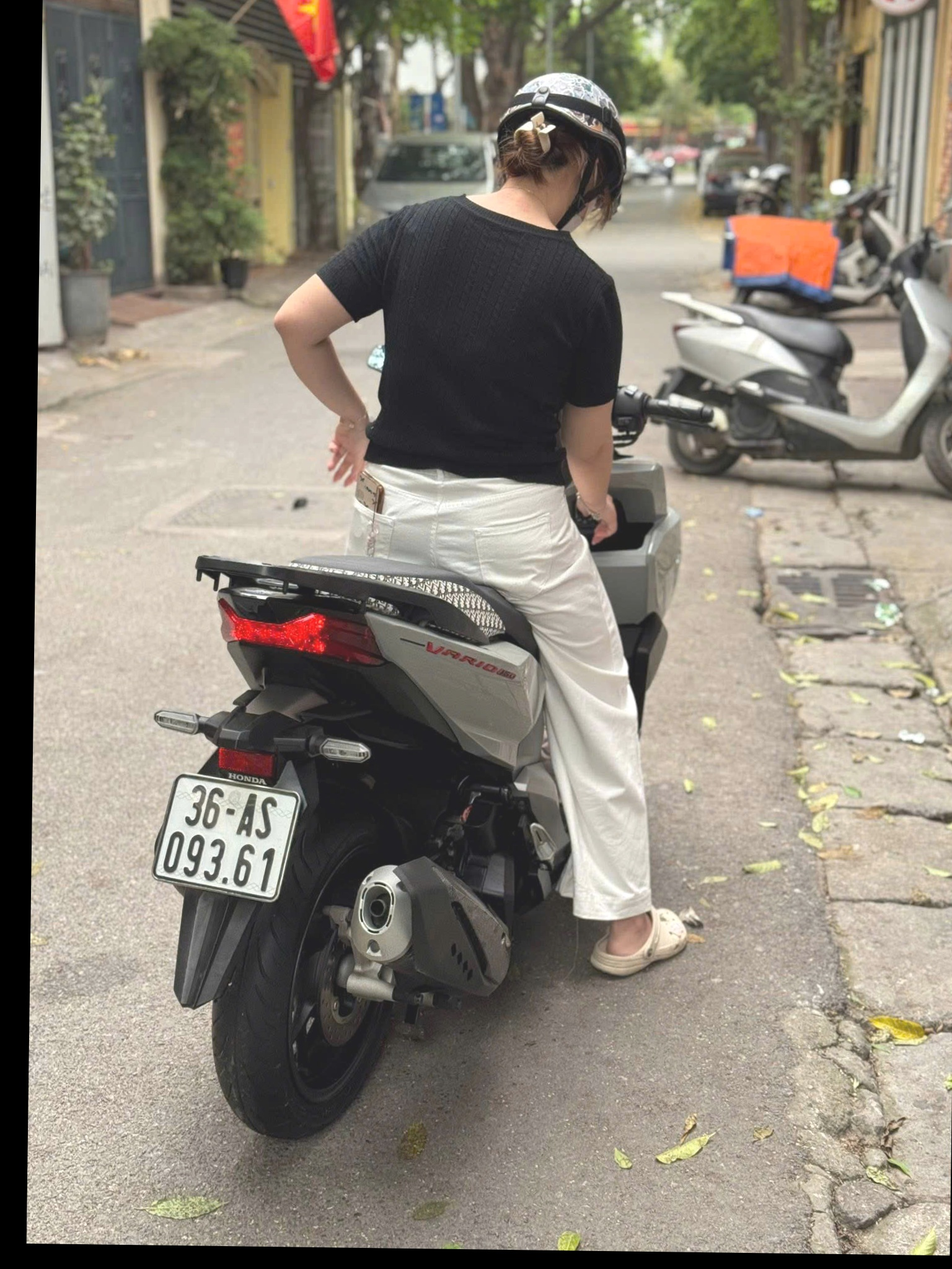Bien-so: (134, 819, 284, 955)
